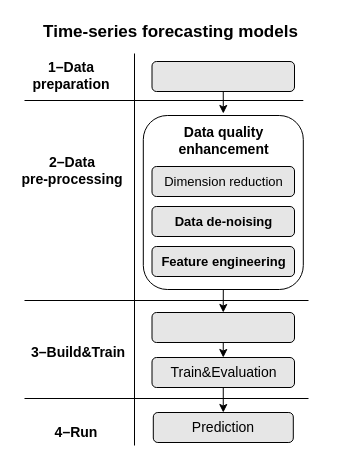
Image size: 338x464. Some labels were removed from this diagram. Here are the shapes that lost their labels. From the top down, the box of each, then its label:
(151, 60, 294, 92): Raw Data
(151, 312, 294, 342): Algorithm selection
